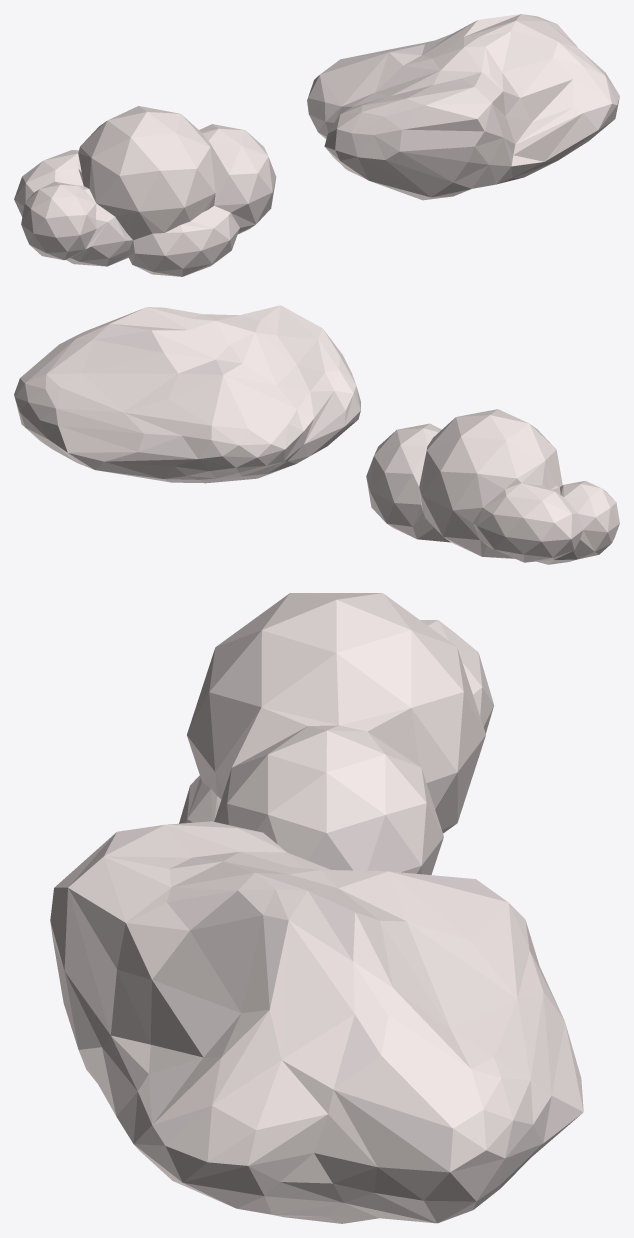
File: Clouds.fbx
3 views of the same model, one above another, from view 1: azimuth 30°, elevation 25°; view 2: azimuth 150°, elevation 25°; view 3: azimuth 270°, elevation 25° (orthographic). The views are drawn at different scales.
Visible parts, largest first — view 1: Cloud_2, Cloud_1; view 2: Cloud_2, Cloud_1; view 3: Cloud_2, Cloud_1.
Boxes of the visible parts, x1=… form: Cloud_2: x1=307, y1=14, x2=619, y2=200; Cloud_1: x1=14, y1=106, x2=276, y2=276; Cloud_2: x1=14, y1=305, x2=360, y2=483; Cloud_1: x1=366, y1=409, x2=619, y2=564; Cloud_2: x1=50, y1=821, x2=583, y2=1223; Cloud_1: x1=179, y1=593, x2=494, y2=874.
Size of the model in its own units: 22.95 by 6.22 by 9.31.
